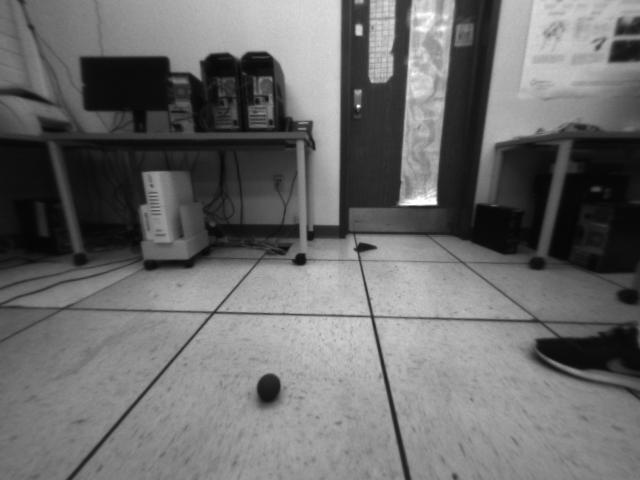dogtoy: (251, 365, 290, 409)
